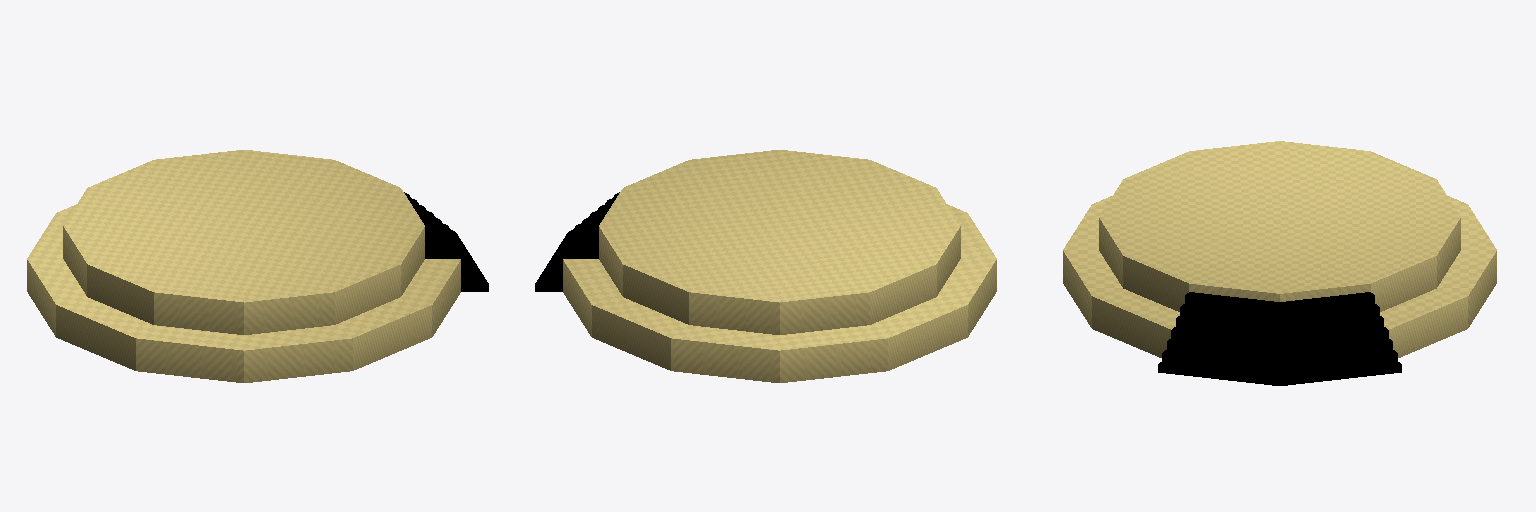
3 renders of one model, left to right at view 1: azimuth 30°, elevation 25°; view 2: azimuth 150°, elevation 25°; view 3: azimuth 270°, elevation 25°, orthographic.
Visible parts, largest first — view 1: stagebase2, stagebase1; view 2: stagebase2, stagebase1; view 3: stagebase2, stagebase1, stagebase_stair1, stagebase_stair2, stagebase_stair3, stagebase_stair7, stagebase_stair4, stagebase_stair5, stagebase_stair6.
Boxes of the visible parts, x1=… form: stagebase2: x1=63, y1=150, x2=424, y2=334; stagebase1: x1=27, y1=204, x2=460, y2=382; stagebase2: x1=599, y1=150, x2=960, y2=334; stagebase1: x1=563, y1=204, x2=996, y2=382; stagebase2: x1=1099, y1=141, x2=1460, y2=311; stagebase1: x1=1063, y1=196, x2=1496, y2=357; stagebase_stair1: x1=1158, y1=361, x2=1401, y2=385; stagebase_stair2: x1=1162, y1=350, x2=1397, y2=373; stagebase_stair3: x1=1167, y1=338, x2=1392, y2=361; stagebase_stair7: x1=1171, y1=327, x2=1388, y2=349; stagebase_stair4: x1=1176, y1=315, x2=1383, y2=337; stagebase_stair5: x1=1180, y1=303, x2=1379, y2=325; stagebase_stair6: x1=1185, y1=292, x2=1374, y2=313.
Bounding box in the file's own units: 25.5 × 4 × 24.
Materials: 2 (1 with a texture image).